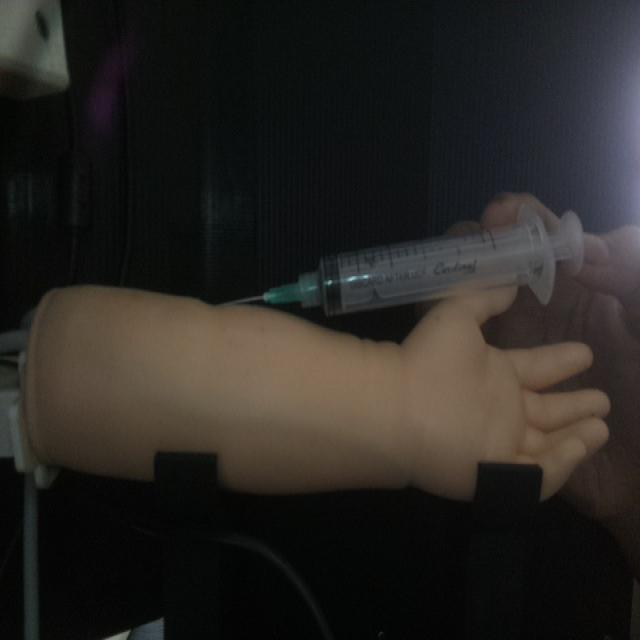Outside: (216, 200, 587, 319)
